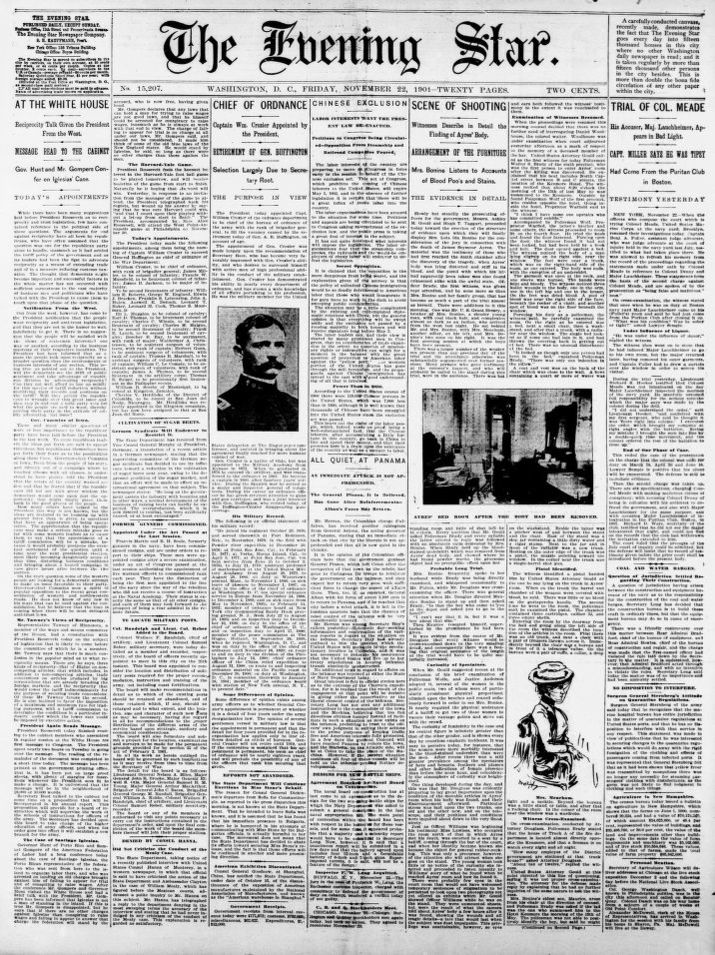news_paper: (5, 5, 715, 942)
